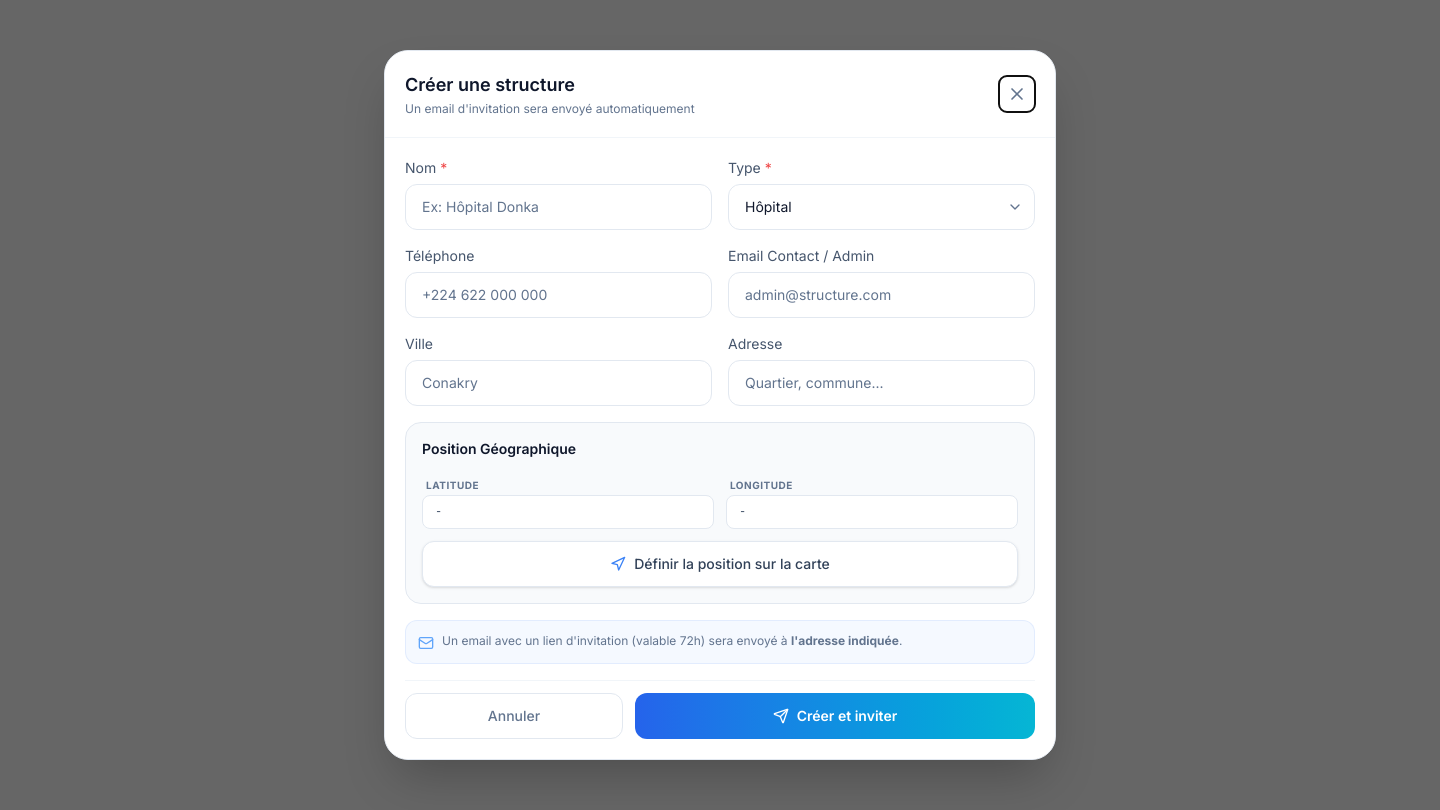
it: StructureModal, création sans invitation › garde la fenêtre ouverte avec l'avertissement et le bouton de renvoi
In the field with placeholder "Ex: Hôpital Donka": {"x": 558, "y": 207} [405, 184, 712, 230], type "Clinique Test"
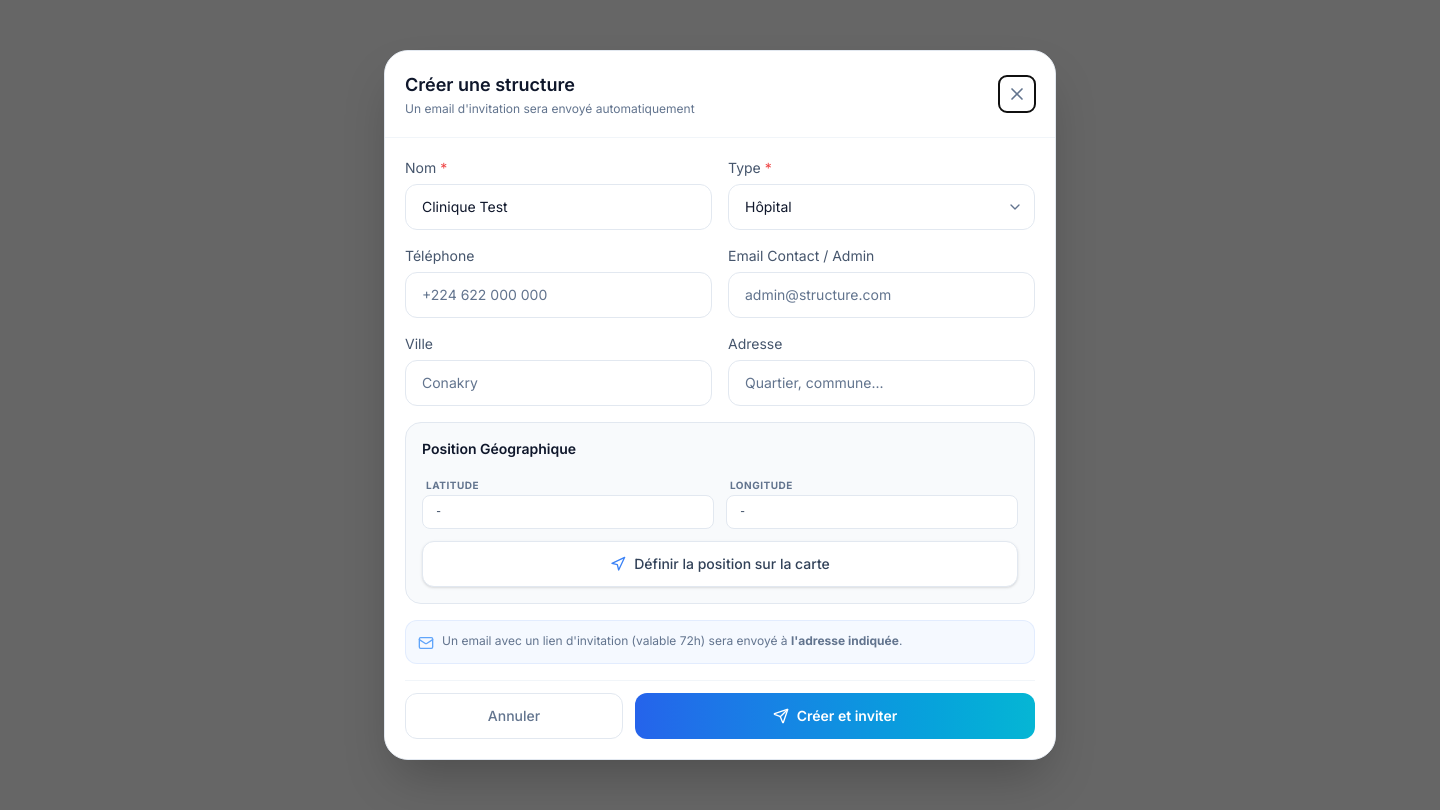
In the field with placeholder "admin@structure.com": {"x": 882, "y": 295} [728, 272, 1035, 318], type "c@exemple.com"
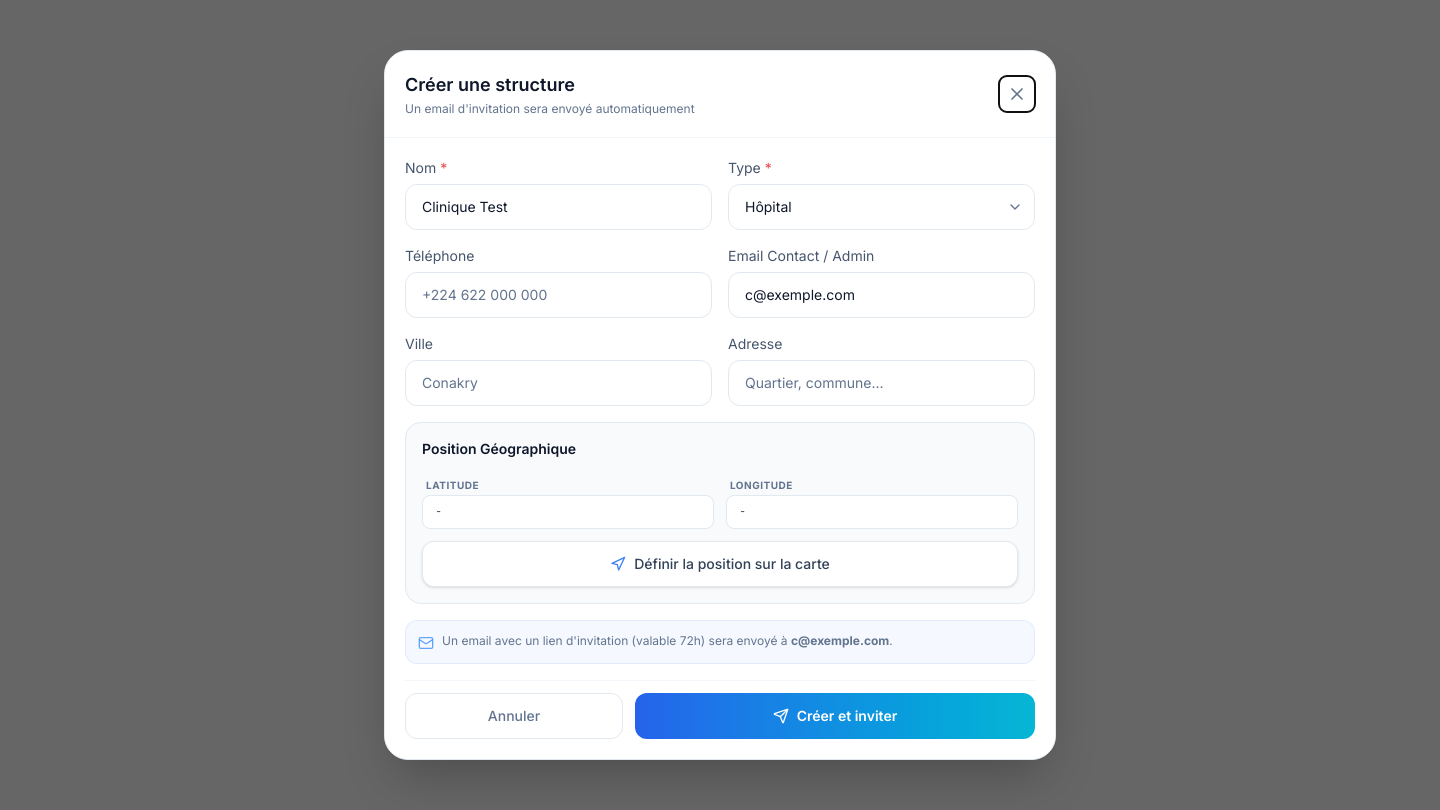
Submit the form named "Créer et inviter", box [385, 138, 1055, 759]
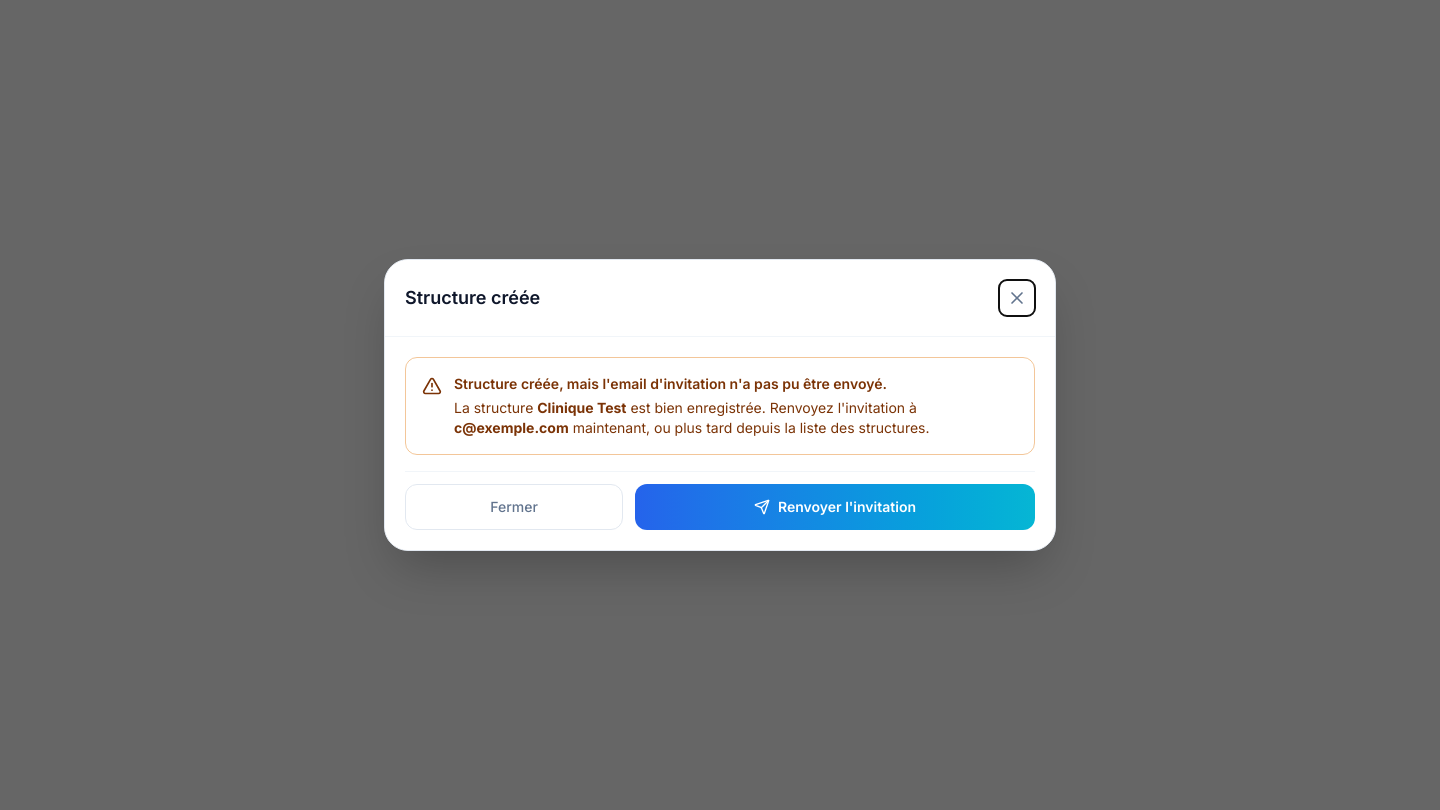
Check: the text "Structure créée, mais l'email d'invitation n'a pas pu être envoyé." is shown, box [454, 375, 887, 392]
Check: the button "Renvoyer l'invitation" is shown, box [635, 484, 1035, 530]
